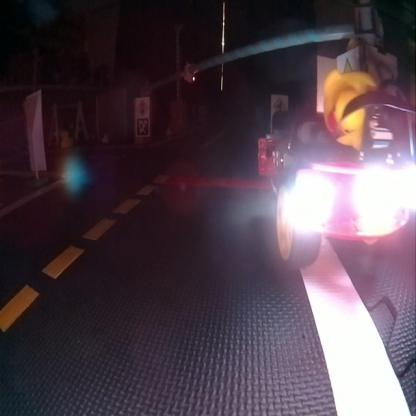Duckie: (323, 70, 376, 148), (60, 129, 73, 147), (101, 134, 108, 142)
Duckiebot: (258, 104, 413, 265)
Intersection sign: (271, 96, 287, 112)
QR code: (136, 117, 148, 133)
Signal sign: (136, 99, 147, 114)
